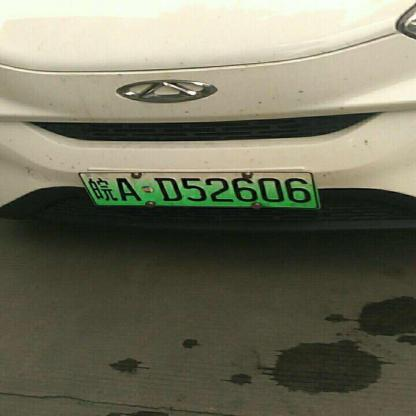lp: (78, 173, 317, 206)
